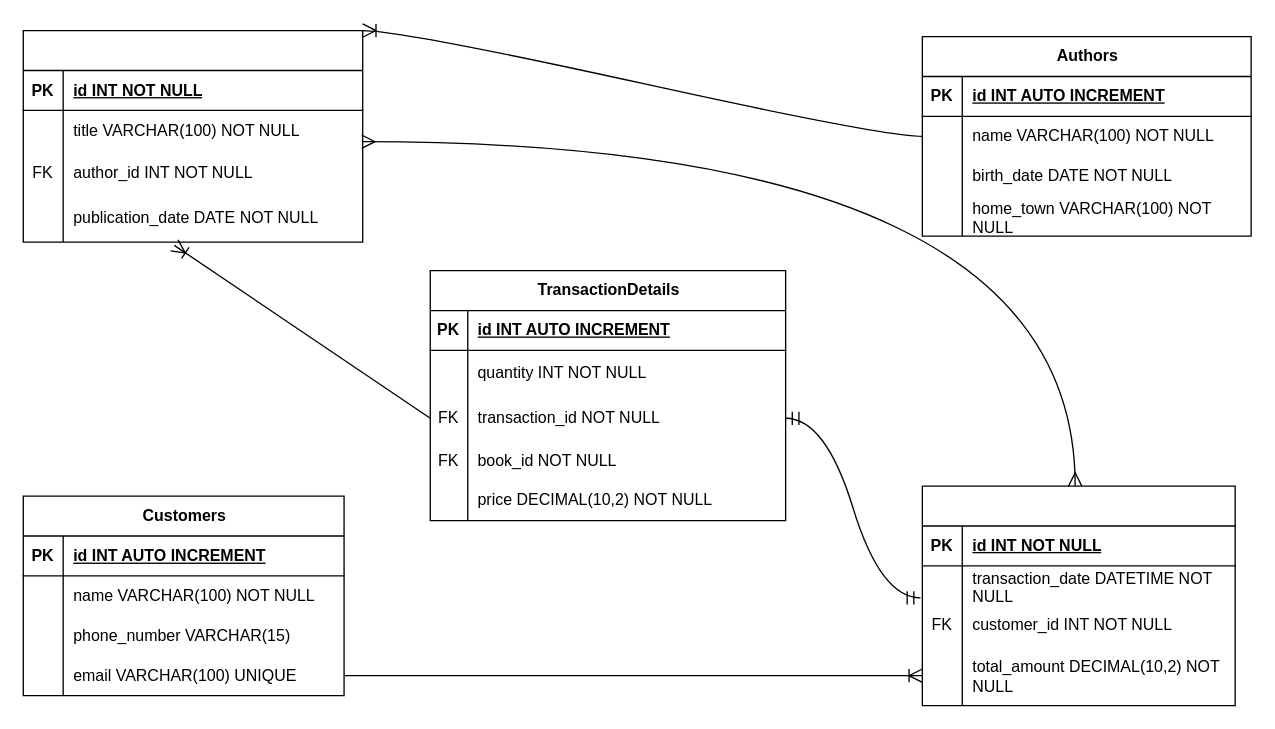
Some shapes in this 1275 by 729 pixel diagram are drawn without their labels. The box of each missing label's shape, as (x1, y1, x2, y2) in pixels:
Books: (22, 29, 363, 242)
Transactions: (921, 485, 1235, 706)
